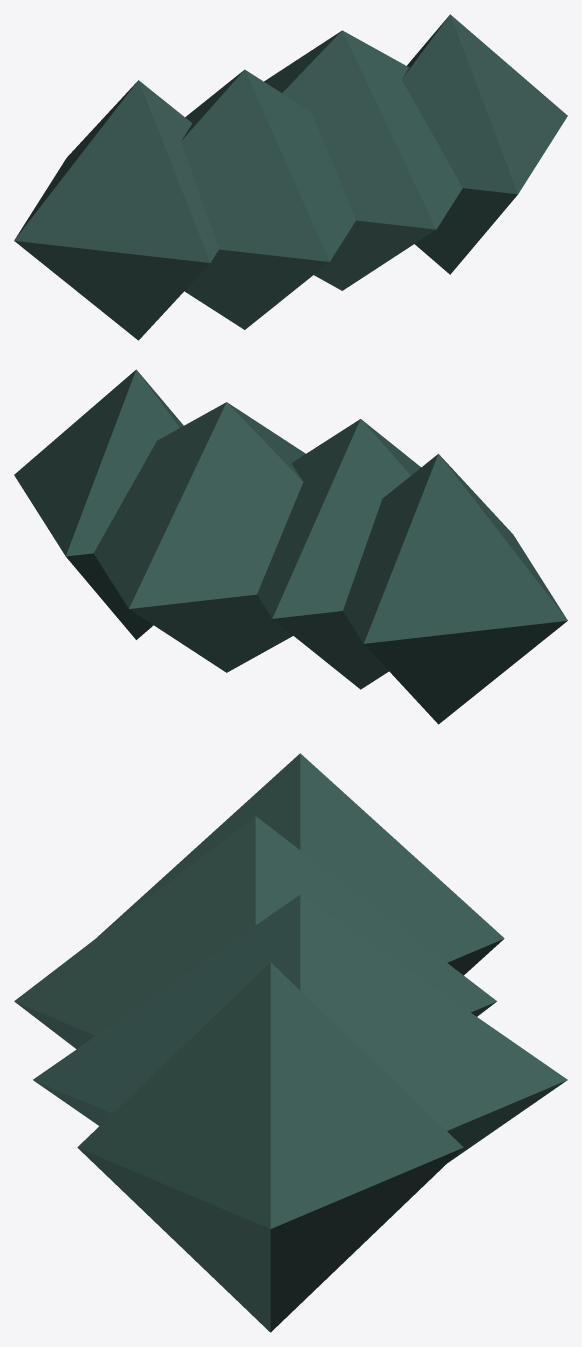
File: hedge_segment.glb
The picture shows the model from 3 angles, top to bottom: view 1: azimuth 30°, elevation 25°; view 2: azimuth 150°, elevation 25°; view 3: azimuth 270°, elevation 25°; orthographic projection. The views are drawn at different scales.
Visible parts, largest first — view 1: hedge_segment; view 2: hedge_segment; view 3: hedge_segment.
Boxes of the visible parts, <box> form: hedge_segment: <box>14,14,567,340</box>; hedge_segment: <box>14,369,567,724</box>; hedge_segment: <box>14,753,567,1332</box>.
Bounding box in the file's own units: 2.4 × 1.1 × 1.49.
